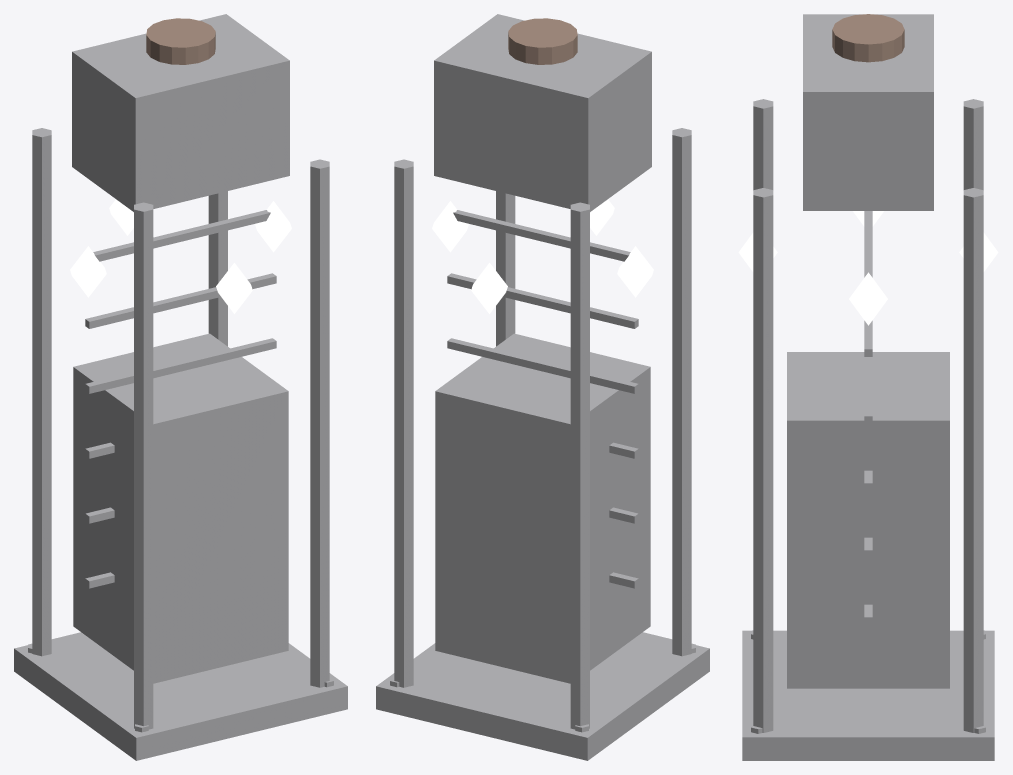
Rendered from elevator_mythic.glb.
3 views of the same model, side by side, from view 1: azimuth 30°, elevation 25°; view 2: azimuth 150°, elevation 25°; view 3: azimuth 270°, elevation 25° (orthographic). The views are drawn at different scales.
Parts seen in each view (by area): view 1: elevator, cage; view 2: elevator, cage; view 3: elevator, cage.
Boxes of the visible parts, <box> form: elevator: <box>14,14,347,760</box>; cage: <box>73,333,288,683</box>; elevator: <box>376,14,709,760</box>; cage: <box>435,333,650,683</box>; elevator: <box>738,14,998,760</box>; cage: <box>787,352,949,688</box>.
Bounding box in the file's own units: 1.58 × 4.56 × 1.58.
